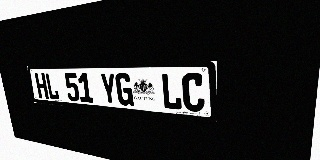1: (77, 73, 93, 103)
5: (64, 73, 80, 102)
C: (182, 73, 205, 112)
G: (115, 73, 134, 106)
H: (34, 73, 49, 99)
L: (161, 73, 182, 111), (45, 73, 60, 100)
Y: (99, 73, 118, 105)
